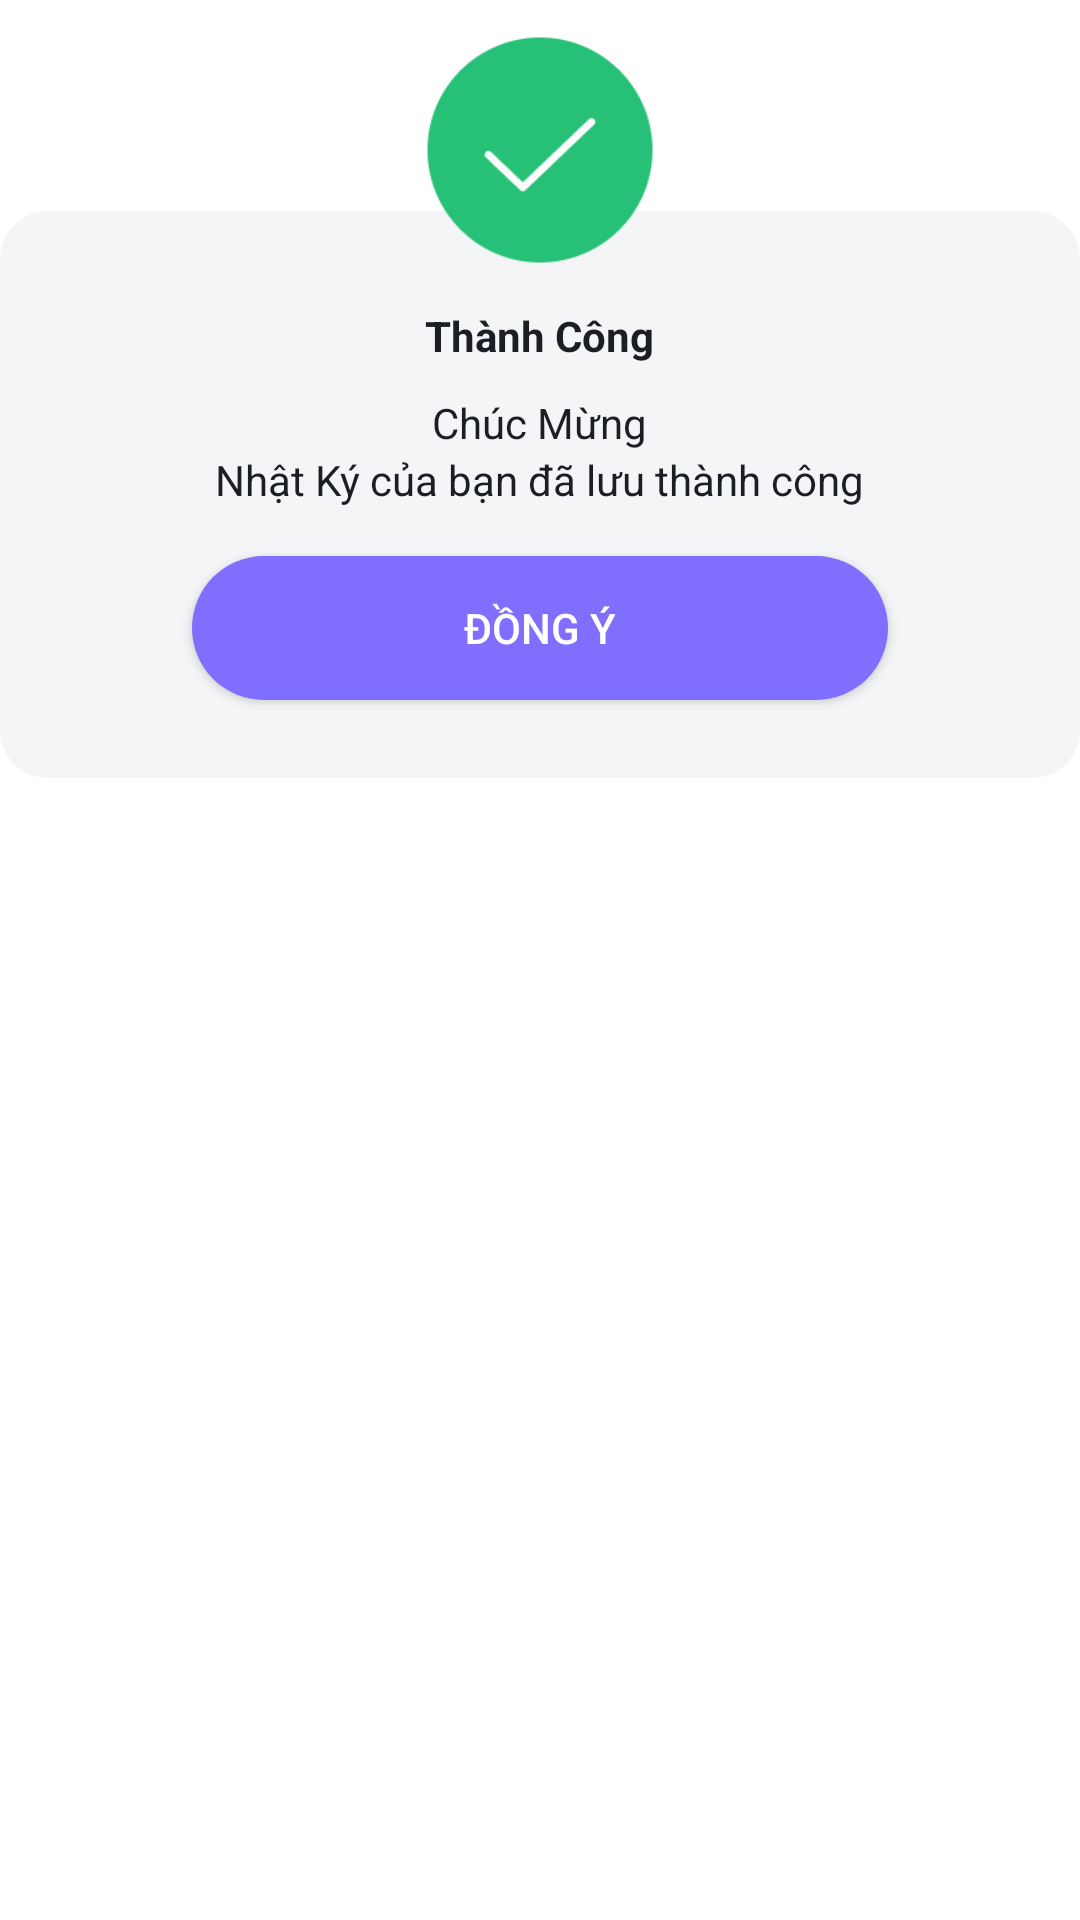

Named icons in this screenshot (1080px×1920px) and their bounding boxes, Rect(x1, y1, x2, y2):
save complete: Rect(427, 37, 653, 263)
